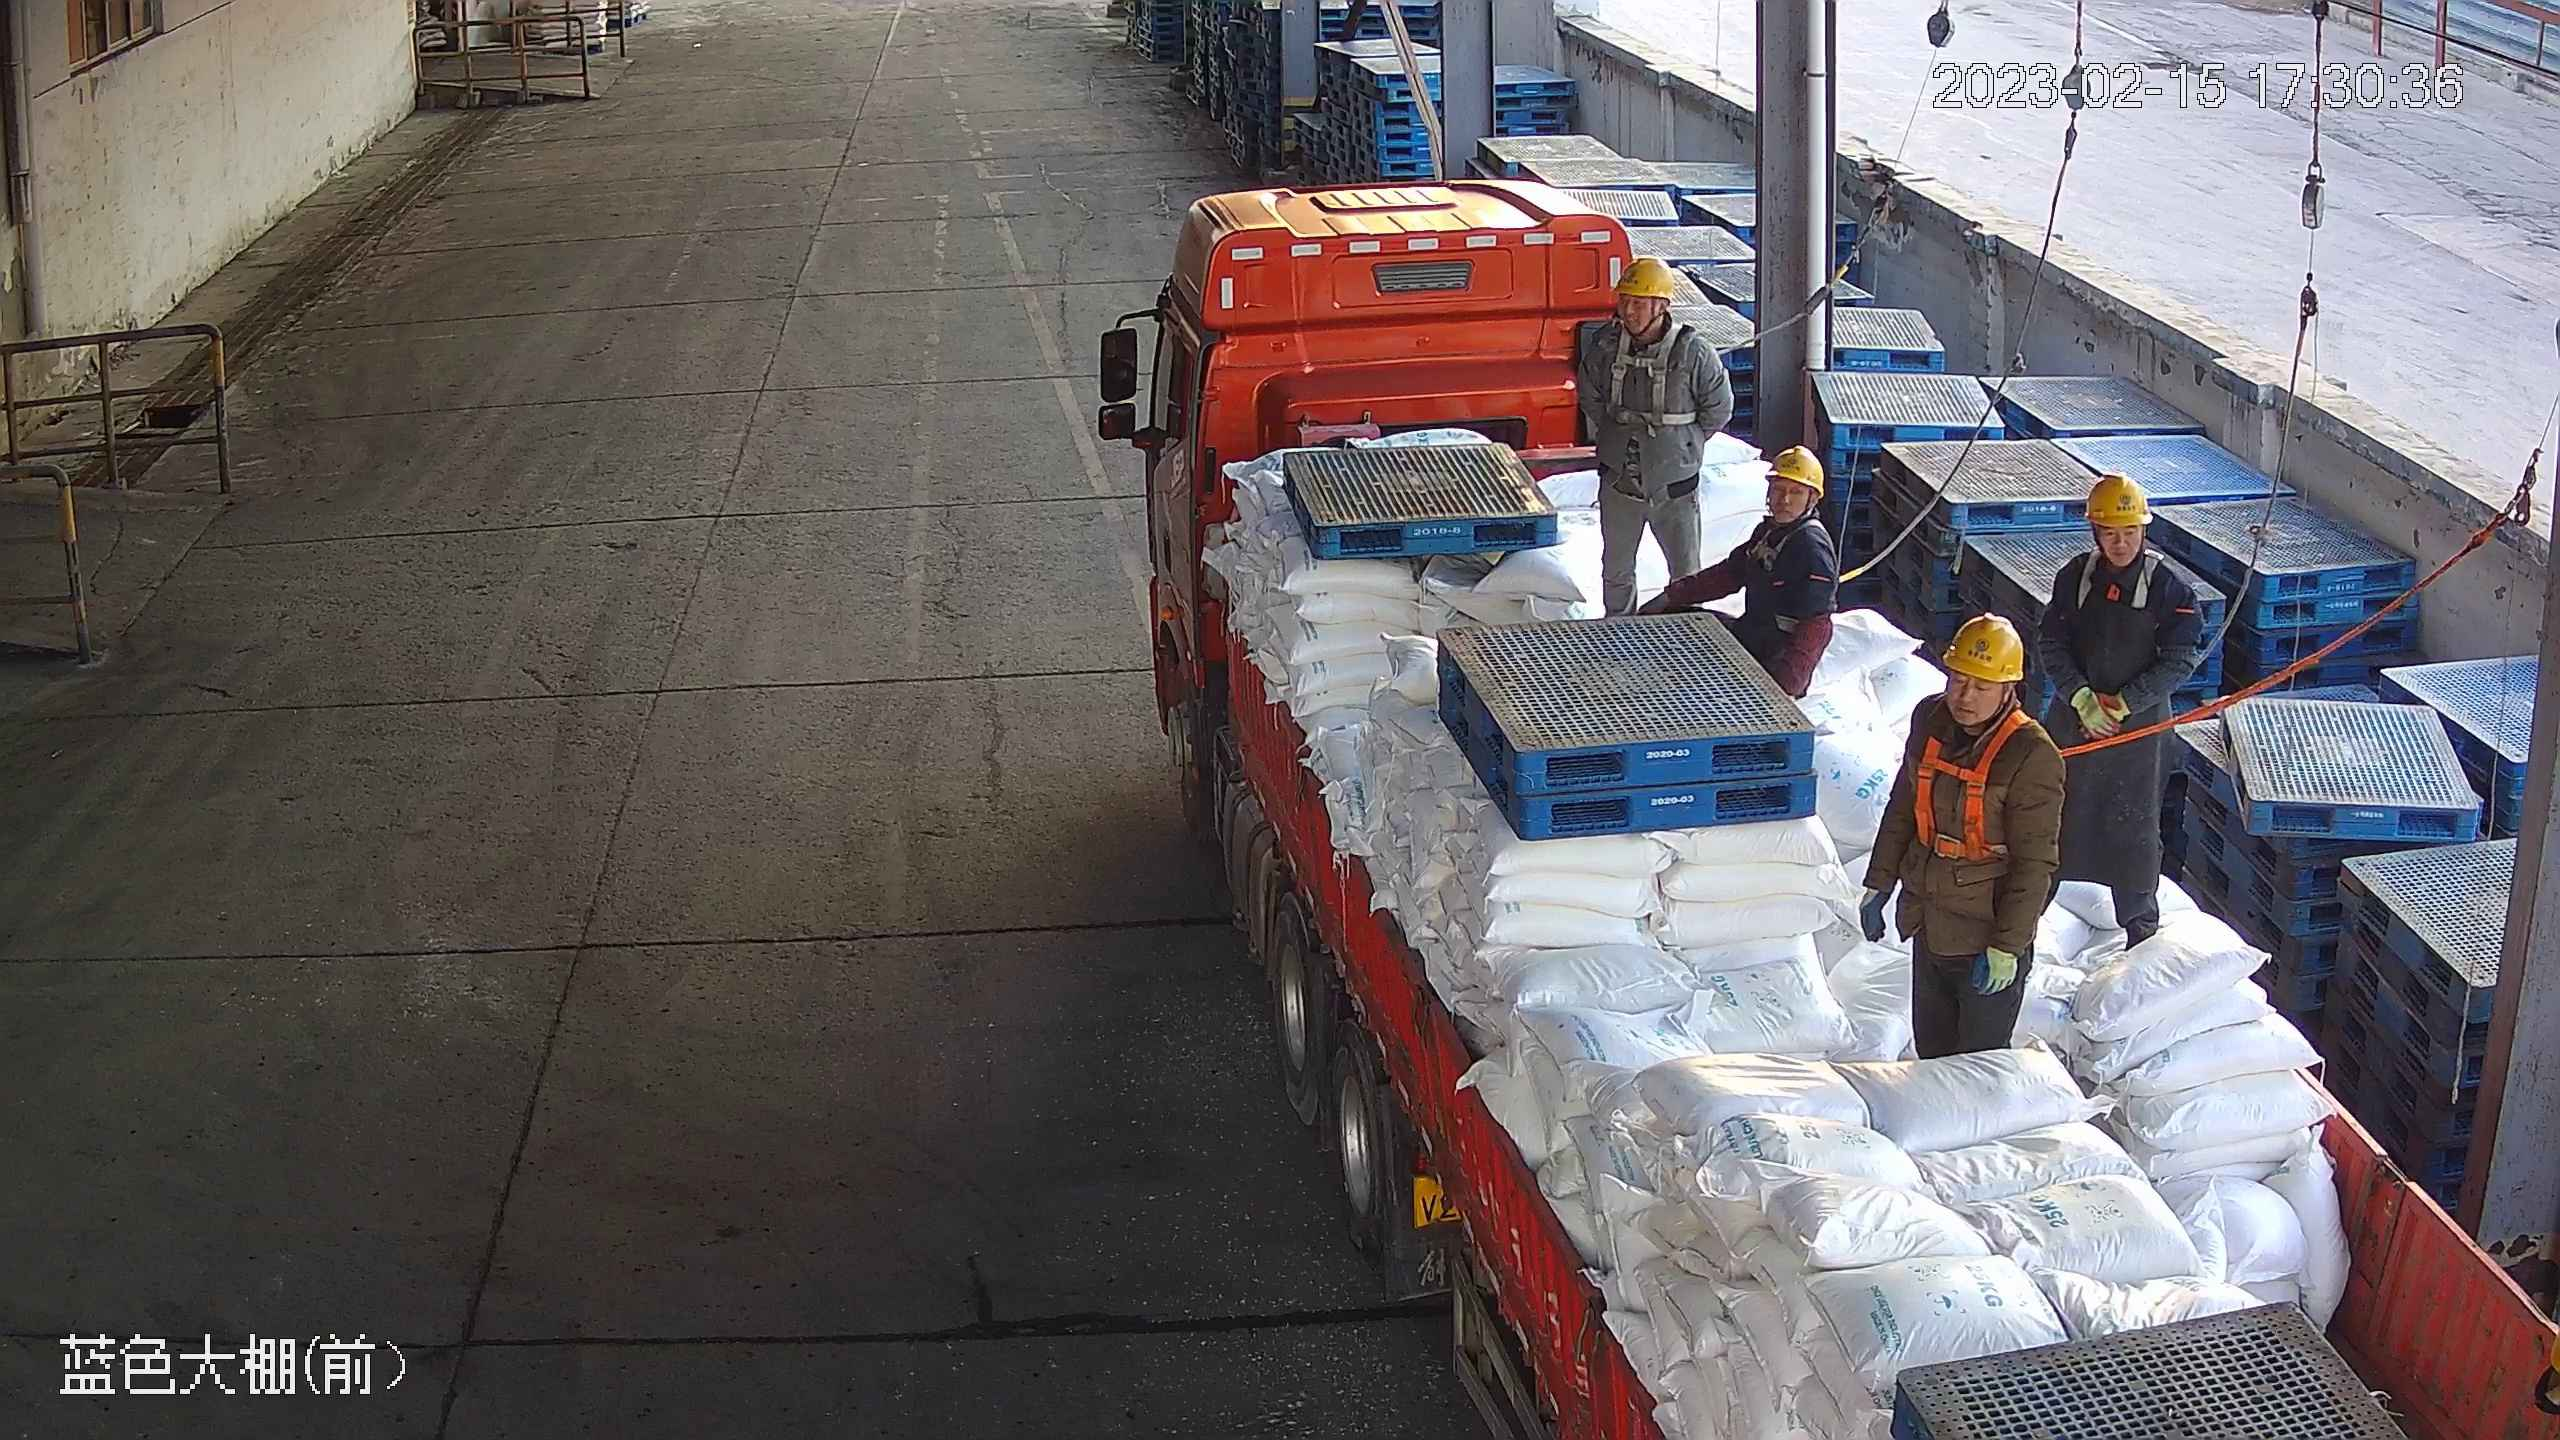belt: (1909, 695, 2078, 863), (2078, 547, 2221, 675), (1597, 316, 1739, 429), (1743, 515, 1870, 634)
head: (1906, 609, 2072, 780), (2051, 472, 2199, 602), (1588, 254, 1723, 366), (1749, 443, 1838, 558)
helmet: (1938, 609, 2025, 685), (2082, 473, 2154, 528), (1764, 443, 1825, 499), (1612, 255, 1676, 301)
people: (1852, 606, 2068, 1063), (2034, 472, 2206, 956), (1575, 254, 1735, 618), (1636, 441, 1842, 701)
truck: (1141, 173, 2560, 1440)
